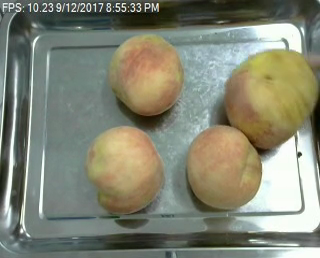Peach: (223, 49, 317, 146), (85, 125, 163, 214), (186, 124, 263, 209), (108, 33, 183, 115)
